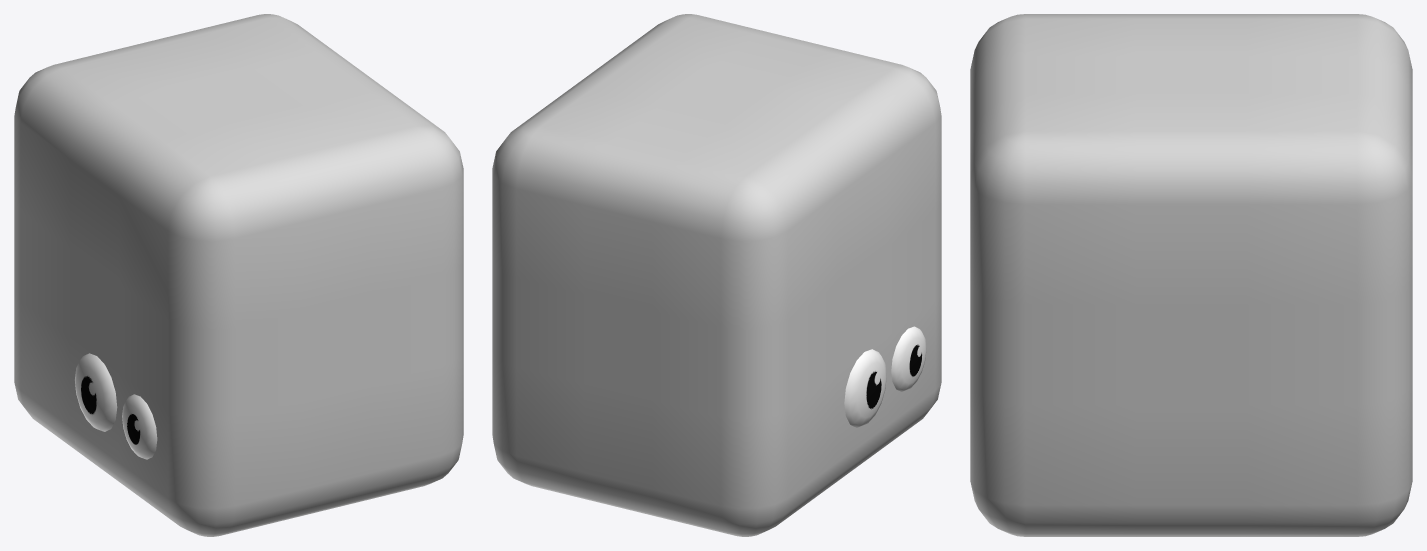
The model's file is daddy.FBX.
The picture shows the model from 3 angles, left to right: view 1: azimuth 30°, elevation 25°; view 2: azimuth 150°, elevation 25°; view 3: azimuth 270°, elevation 25°; orthographic projection. The views are drawn at different scales.
Parts seen in each view (by area): view 1: Daddy, Eye_R, Eye_L; view 2: Daddy, Eye_R, Eye_L; view 3: Daddy.
Part boxes in pixels (x1=…): Daddy: x1=14, y1=14, x2=463, y2=536; Eye_R: x1=75, y1=353, x2=117, y2=431; Eye_L: x1=122, y1=394, x2=157, y2=459; Daddy: x1=492, y1=14, x2=941, y2=536; Eye_R: x1=844, y1=349, x2=886, y2=427; Eye_L: x1=891, y1=326, x2=926, y2=391; Daddy: x1=970, y1=14, x2=1412, y2=536.
Size of the model in its own units: 176 by 200 by 200.
Materials: 1 (1 with a texture image).
